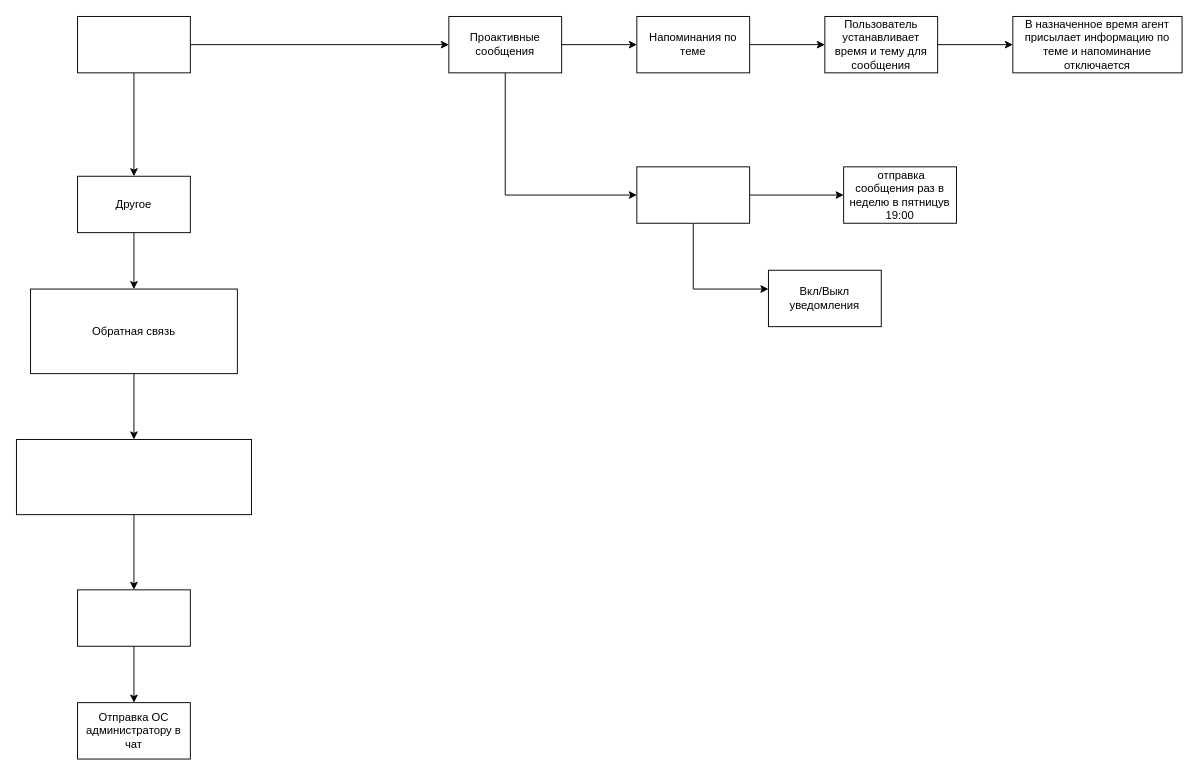
The diagram is 1199 pixels wide and 776 high, and some of its shapes have lost their labels. The centre of each missing label's shape, as x and y in pixels:
Главное меню: (133,44)
Ответ от агента: Введите обратную связь:: (133,477)
Отправка второму боту: (133,617)
Триггеры (Суммаризация): (693,194)
